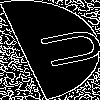U: (25, 25, 100, 73)
